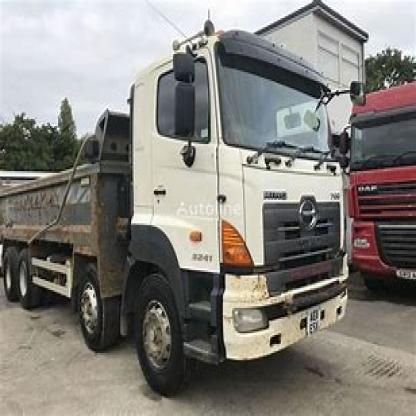dump_truck: (26, 14, 366, 389)
